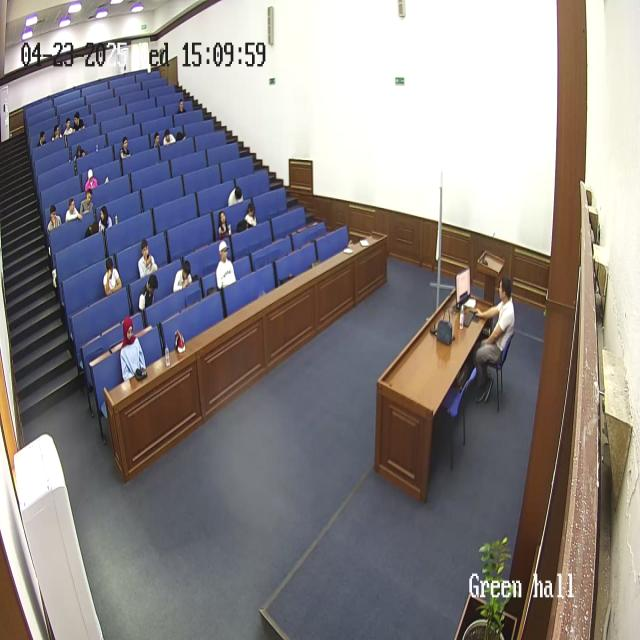person: (472, 274, 516, 404), (119, 317, 147, 383), (215, 241, 237, 290), (137, 237, 158, 280), (138, 274, 158, 316), (103, 256, 123, 297), (172, 259, 192, 293), (78, 188, 95, 220), (46, 203, 62, 236), (98, 204, 114, 236), (216, 211, 232, 241), (242, 202, 258, 229), (66, 197, 82, 223), (84, 167, 98, 195), (227, 184, 244, 207), (74, 145, 86, 172), (120, 136, 132, 161), (73, 112, 85, 132), (162, 129, 175, 147), (64, 117, 74, 139), (52, 121, 62, 141), (174, 125, 185, 143), (152, 132, 162, 150), (38, 132, 48, 148), (176, 98, 186, 114)
